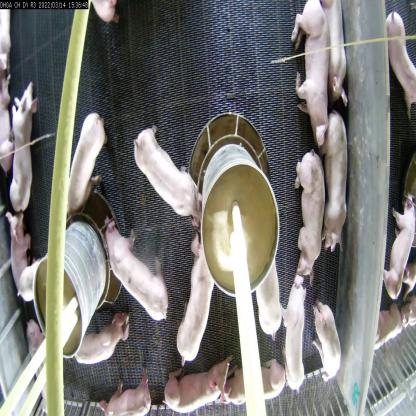Pig: (285, 0, 333, 146), (104, 216, 168, 317), (181, 231, 227, 364), (138, 125, 201, 222), (64, 313, 144, 382), (58, 96, 106, 208), (317, 112, 353, 259), (4, 83, 45, 207), (275, 270, 311, 390), (83, 359, 154, 415), (295, 141, 321, 284), (16, 313, 51, 409), (309, 296, 345, 384), (251, 246, 287, 333), (224, 359, 284, 409), (3, 212, 36, 291), (322, 4, 347, 99), (159, 352, 220, 388)
